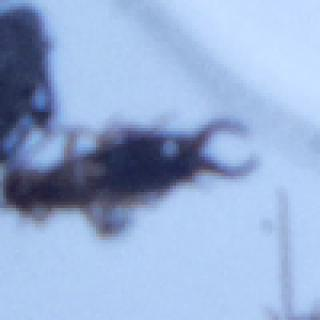earwig: (0, 118, 260, 239)
